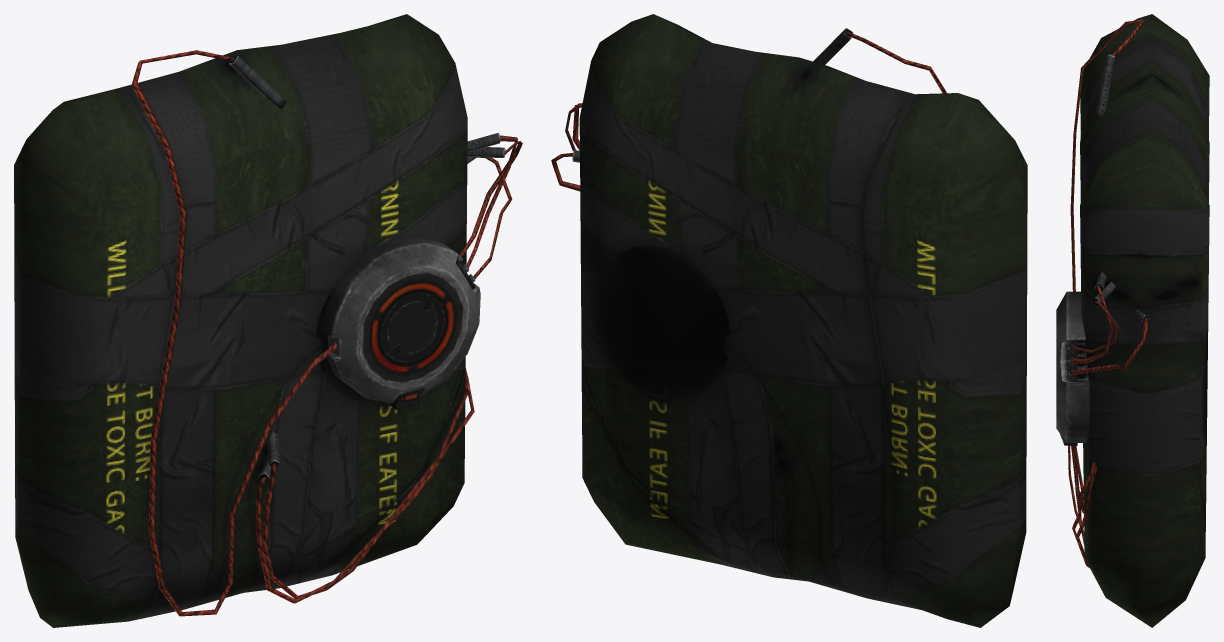
File: t6_wpn_c4_world_LOD0.obj
3 renders of one model, left to right at view 1: azimuth 30°, elevation 25°; view 2: azimuth 150°, elevation 25°; view 3: azimuth 270°, elevation 25°, orthographic. The views are drawn at different scales.
Parts seen in each view (by area): view 1: mtl_t6_wpn_c4; view 2: mtl_t6_wpn_c4; view 3: mtl_t6_wpn_c4.
Part boxes in pixels (x1=…): mtl_t6_wpn_c4: x1=14, y1=14, x2=522, y2=627; mtl_t6_wpn_c4: x1=551, y1=14, x2=1027, y2=627; mtl_t6_wpn_c4: x1=1056, y1=14, x2=1209, y2=627.
Bounding box in the file's own units: 30.44 × 34.01 × 9.52.
